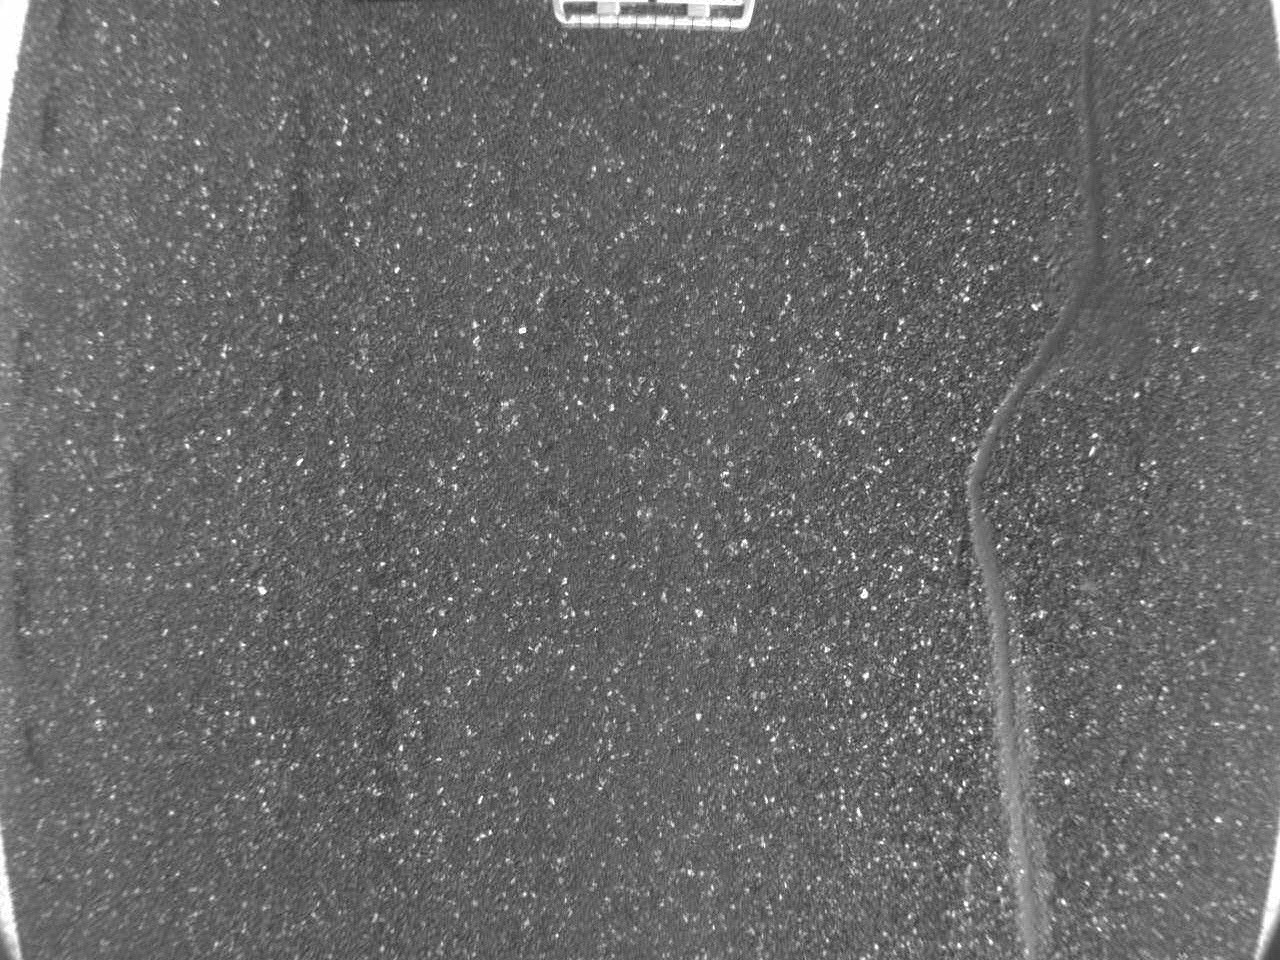sealed: (964, 3, 1135, 956)
